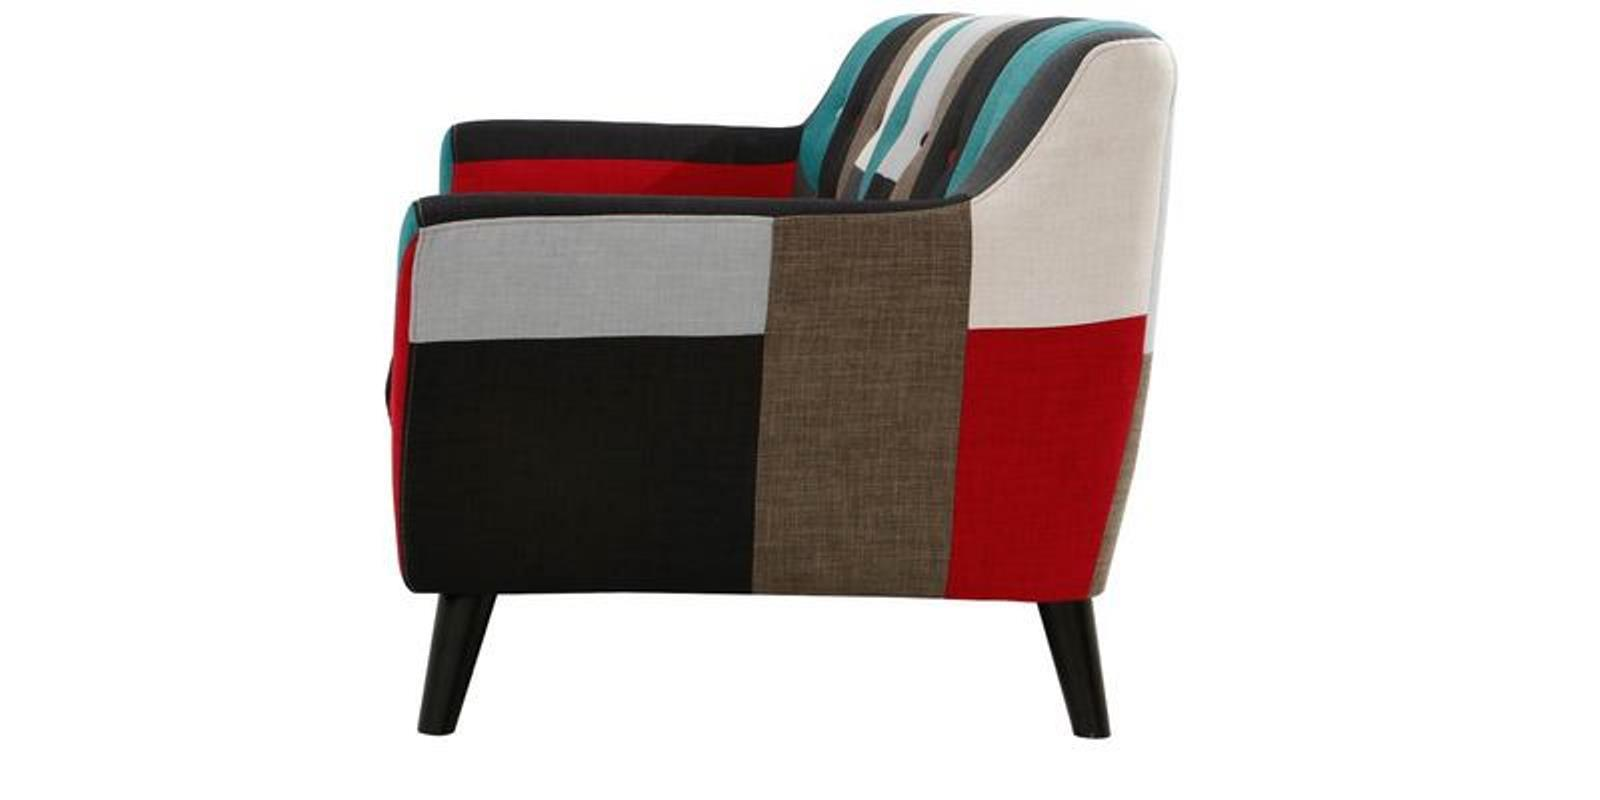Frida Three Seater Sofa in Red Multi Colour by CasaCraft: (365, 8, 1194, 779)
